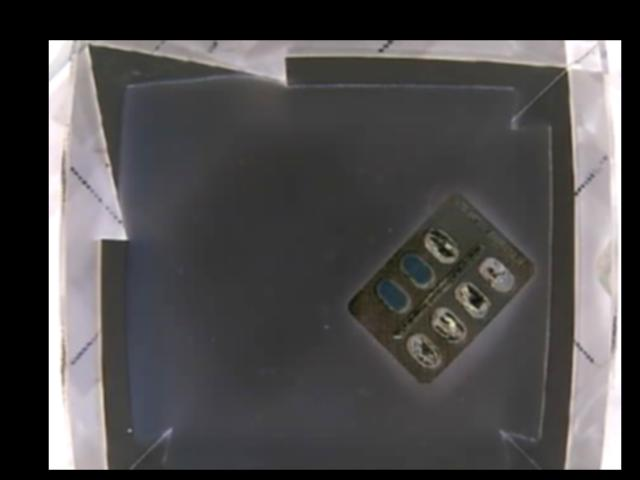Medicine: (345, 194, 536, 381)
